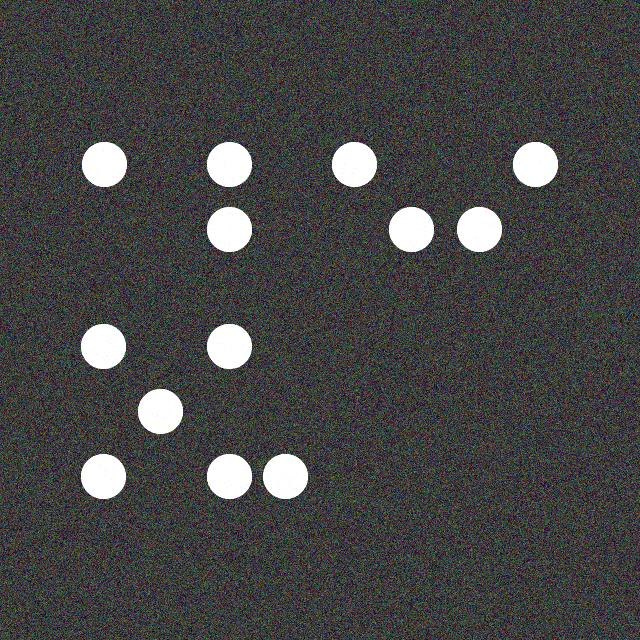A: (76, 136, 184, 306)
B: (199, 133, 313, 306)
E: (328, 132, 442, 309)
I: (453, 133, 563, 311)
O: (76, 319, 188, 507)
U: (203, 318, 312, 506)
